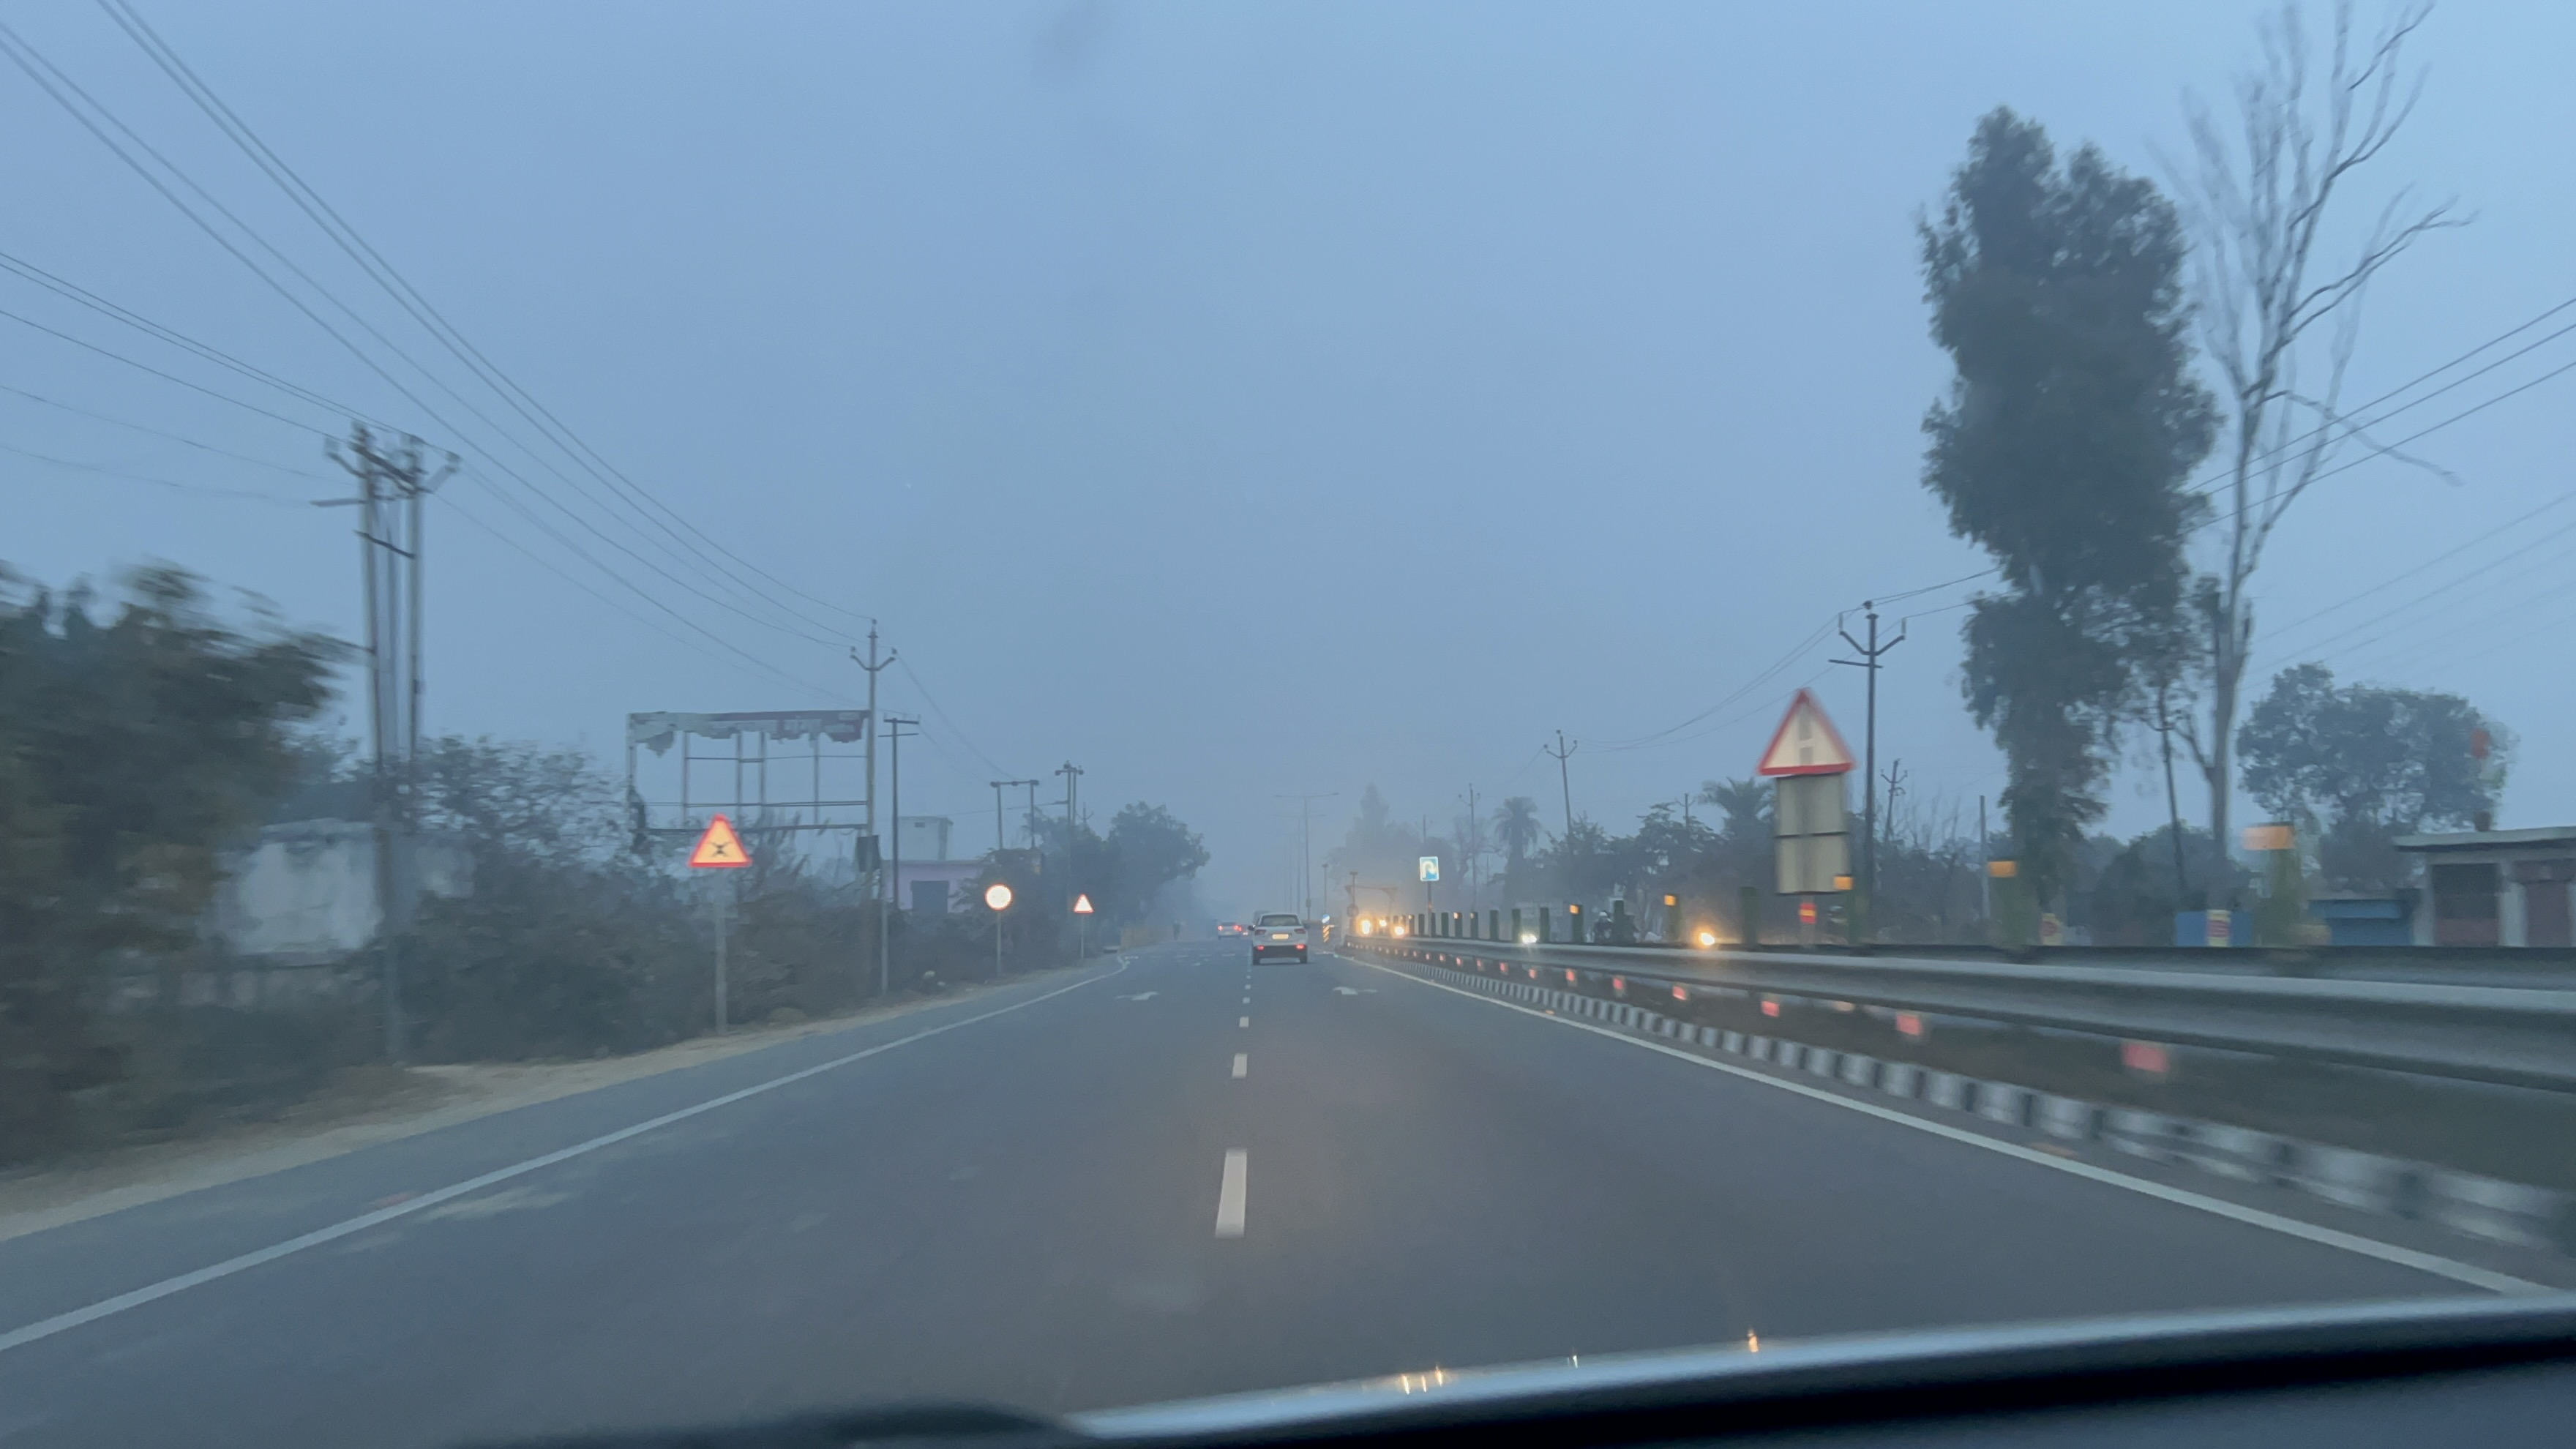Informatory: (1417, 855, 1442, 883)
Mandatory: (982, 881, 1017, 911)
Regulatory: (1322, 915, 1330, 924)
Warning: (1759, 686, 1858, 775), (685, 810, 754, 869), (1069, 892, 1097, 916)
